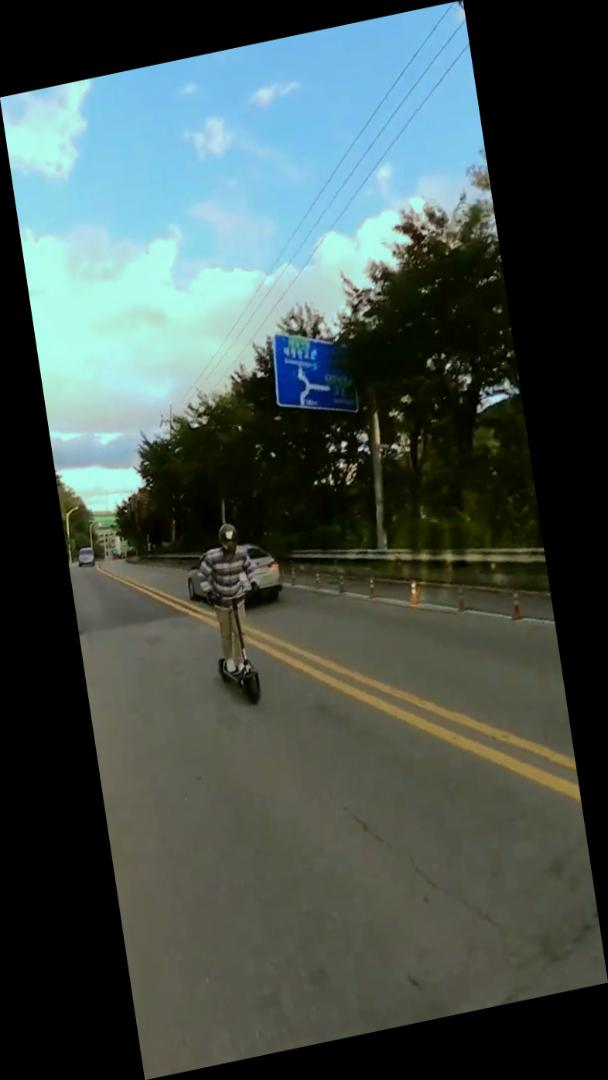helmet: (191, 515, 275, 714)
